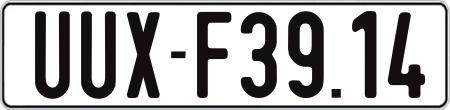1: (352, 9, 379, 101)
3: (238, 9, 278, 99)
4: (385, 11, 422, 98)
9: (285, 11, 325, 102)
F: (195, 11, 230, 98)
U: (78, 10, 118, 101), (34, 10, 71, 100)
X: (125, 10, 158, 96)
